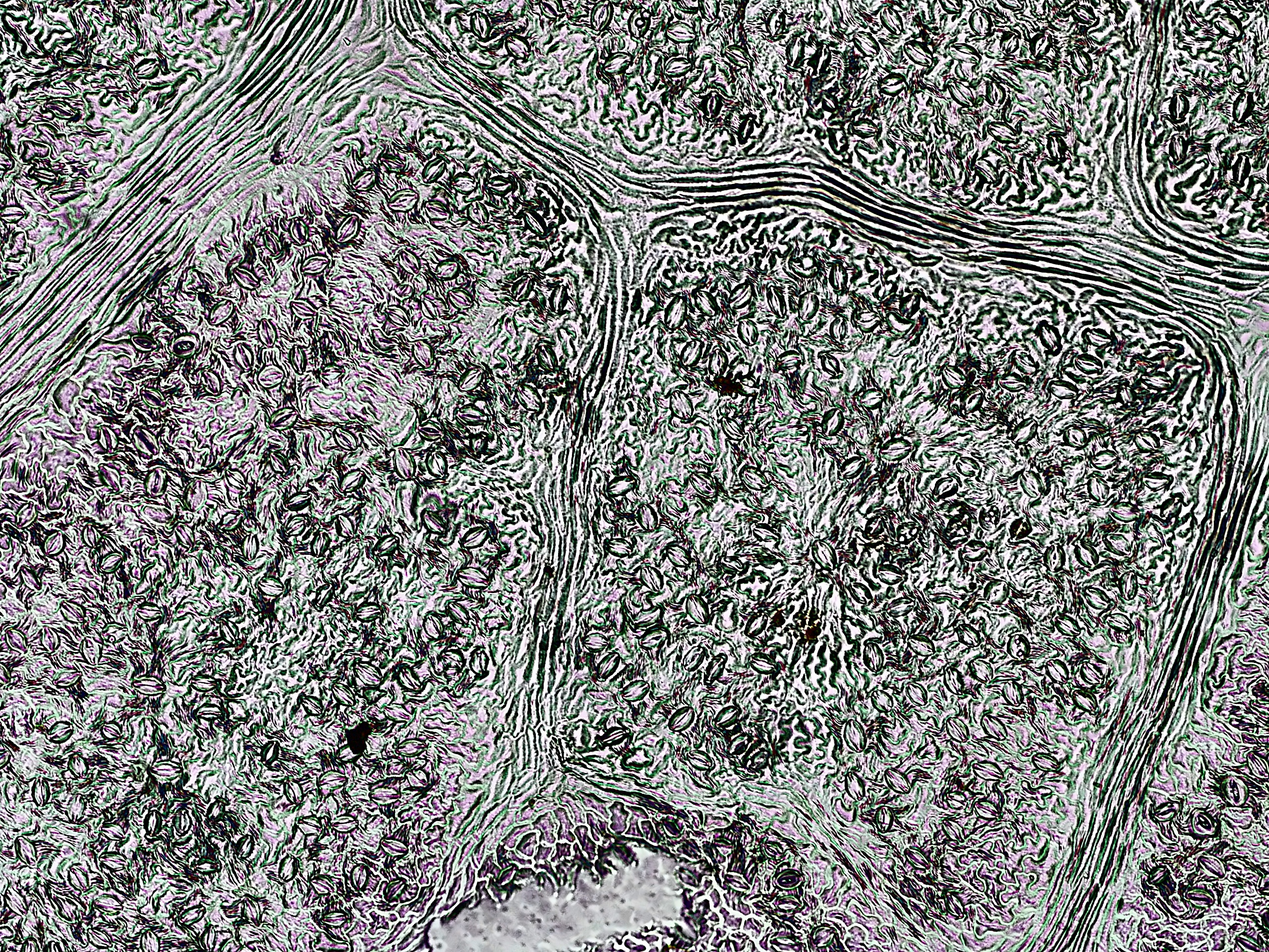stomata: (971, 158, 1000, 189), (392, 448, 417, 481), (515, 382, 543, 411), (334, 214, 361, 244), (45, 99, 78, 123), (168, 333, 201, 357), (812, 539, 836, 572), (843, 718, 867, 751), (686, 594, 711, 625), (879, 436, 911, 460), (182, 478, 205, 511), (948, 80, 975, 108), (905, 42, 935, 67), (664, 296, 686, 330), (1224, 775, 1248, 806), (512, 272, 535, 304), (590, 0, 613, 32), (980, 713, 1007, 740), (410, 338, 435, 367), (133, 425, 158, 454), (352, 663, 383, 686), (821, 407, 844, 438), (1040, 321, 1063, 352), (1042, 541, 1065, 572), (854, 31, 880, 58), (666, 707, 693, 733), (739, 464, 767, 489), (1193, 809, 1218, 837), (951, 41, 980, 65), (151, 761, 184, 782), (1109, 501, 1142, 522), (388, 188, 418, 211), (666, 21, 696, 44), (671, 389, 694, 419), (689, 472, 719, 495), (132, 675, 166, 695), (767, 285, 787, 319), (524, 209, 549, 236), (15, 500, 40, 527), (629, 7, 650, 39), (1073, 542, 1101, 566), (145, 468, 167, 498), (97, 461, 119, 491), (93, 894, 123, 916), (316, 770, 349, 790), (849, 118, 882, 138), (985, 80, 1007, 110), (988, 121, 1018, 143), (1168, 134, 1189, 165), (333, 427, 359, 452), (885, 768, 910, 794), (879, 73, 906, 97), (1080, 658, 1104, 685), (79, 637, 102, 665), (337, 470, 365, 493), (702, 91, 725, 119), (1215, 14, 1243, 37), (749, 651, 777, 674), (944, 665, 964, 697), (695, 289, 717, 318), (621, 680, 650, 702), (287, 344, 308, 374), (370, 536, 400, 557), (258, 575, 288, 596), (458, 567, 488, 588), (882, 5, 903, 35), (895, 520, 920, 545), (1006, 635, 1031, 660), (208, 300, 232, 326), (458, 368, 484, 392), (504, 35, 530, 59), (726, 283, 750, 309), (817, 351, 841, 377), (721, 415, 745, 441), (1010, 419, 1036, 443), (720, 554, 746, 578), (232, 265, 259, 288), (271, 408, 298, 431), (968, 9, 991, 36), (665, 545, 692, 568), (1052, 612, 1079, 635), (1084, 325, 1115, 345), (636, 628, 667, 648), (15, 836, 37, 864), (680, 338, 701, 367), (723, 870, 752, 891), (602, 54, 634, 73), (241, 894, 261, 924), (421, 509, 446, 533), (329, 683, 354, 707), (786, 36, 806, 66), (829, 261, 849, 291), (737, 318, 757, 348), (689, 747, 714, 771), (864, 644, 884, 674), (131, 330, 157, 353), (932, 476, 958, 499), (942, 820, 968, 843), (422, 156, 444, 183), (302, 254, 329, 276), (232, 344, 254, 371), (4, 888, 26, 915), (858, 387, 885, 409), (754, 521, 781, 543), (1021, 469, 1043, 496), (1234, 91, 1253, 122), (605, 476, 636, 495), (289, 298, 317, 319), (1048, 134, 1069, 162), (777, 868, 805, 889), (1196, 857, 1224, 878), (797, 291, 817, 320), (829, 314, 849, 343), (607, 536, 636, 556), (188, 673, 220, 691), (743, 612, 767, 636), (425, 452, 448, 477), (696, 0, 721, 23), (726, 44, 751, 67), (986, 578, 1009, 603), (1045, 658, 1070, 681), (434, 258, 460, 280), (449, 288, 475, 310), (383, 304, 409, 326), (141, 387, 167, 409), (641, 565, 663, 591), (1106, 533, 1132, 555), (946, 715, 968, 741), (457, 405, 487, 424), (220, 616, 239, 646), (1169, 92, 1188, 122), (973, 761, 1003, 780), (288, 216, 309, 243), (1050, 378, 1077, 399), (908, 682, 929, 709), (1248, 752, 1269, 779), (1142, 372, 1175, 389), (486, 175, 514, 195), (355, 602, 383, 622), (597, 651, 617, 679), (1088, 474, 1108, 502), (1145, 470, 1173, 490), (1033, 752, 1061, 772), (258, 367, 282, 390), (5, 629, 28, 653), (423, 614, 446, 638), (944, 363, 967, 387), (963, 537, 986, 561), (909, 635, 933, 658), (959, 623, 982, 647), (1073, 688, 1096, 712), (869, 690, 893, 713), (810, 924, 834, 947), (844, 772, 863, 801), (450, 171, 475, 193), (467, 199, 489, 224), (424, 198, 449, 220), (351, 170, 376, 192), (98, 552, 123, 574), (463, 526, 488, 548), (1135, 431, 1160, 453), (714, 706, 739, 728), (969, 657, 991, 682), (68, 752, 89, 778), (68, 865, 89, 891), (417, 419, 443, 440), (446, 602, 472, 623), (637, 505, 658, 531), (980, 504, 1001, 530), (400, 248, 420, 275), (65, 795, 85, 822), (877, 564, 904, 584), (886, 598, 913, 618), (873, 805, 893, 832), (256, 318, 275, 346), (1232, 155, 1251, 183), (87, 927, 111, 949), (839, 454, 863, 476), (849, 583, 873, 605), (419, 295, 440, 320), (44, 531, 65, 556), (102, 622, 127, 643), (48, 721, 73, 742), (1031, 32, 1052, 57), (794, 257, 819, 278), (600, 728, 629, 746), (1121, 571, 1139, 600), (134, 59, 160, 79), (20, 563, 40, 589), (31, 780, 51, 806), (470, 11, 490, 37), (962, 388, 982, 414), (1075, 353, 1101, 373), (100, 851, 127, 870), (709, 349, 728, 376), (1092, 450, 1119, 469), (581, 632, 608, 651), (1186, 888, 1213, 907), (395, 740, 427, 756), (1086, 587, 1109, 609), (550, 285, 568, 313), (41, 625, 59, 653), (284, 491, 312, 509), (399, 666, 420, 690), (60, 601, 85, 621), (137, 601, 162, 621), (538, 344, 558, 369), (311, 532, 331, 557), (1108, 612, 1133, 632), (98, 425, 117, 451), (178, 905, 204, 924), (279, 855, 298, 881), (383, 836, 409, 855), (634, 606, 660, 625), (369, 787, 398, 804), (203, 370, 221, 397), (144, 810, 162, 837), (384, 704, 411, 722), (706, 655, 724, 682), (682, 647, 703, 670), (905, 848, 928, 869), (262, 229, 282, 253), (336, 744, 360, 764), (778, 351, 802, 371), (855, 311, 880, 330), (174, 809, 192, 835), (737, 118, 755, 144), (1001, 373, 1027, 391), (1064, 426, 1086, 447), (301, 695, 324, 715), (1073, 50, 1093, 73), (1003, 681, 1023, 704), (284, 780, 303, 804), (898, 292, 917, 316), (1011, 517, 1030, 541), (1147, 866, 1171, 885), (0, 204, 25, 222), (101, 822, 126, 840), (284, 517, 309, 535), (197, 702, 222, 720), (350, 863, 368, 888), (666, 58, 691, 76), (975, 802, 1000, 820), (321, 911, 349, 927), (175, 525, 195, 547), (944, 894, 964, 916), (310, 874, 333, 893), (737, 377, 760, 396), (53, 670, 80, 686), (236, 833, 253, 858), (1154, 803, 1179, 820), (140, 931, 160, 952), (226, 468, 246, 489), (815, 45, 830, 73), (1000, 33, 1020, 54), (1075, 4, 1096, 24), (865, 515, 885, 536), (468, 431, 487, 453), (268, 450, 287, 472), (220, 511, 242, 530), (32, 168, 58, 184), (331, 815, 357, 831), (767, 9, 783, 35), (207, 799, 225, 822), (84, 525, 101, 549), (336, 514, 353, 538), (470, 650, 487, 674), (201, 925, 216, 952), (1156, 342, 1183, 357), (443, 649, 463, 669), (380, 152, 402, 170), (320, 365, 343, 382), (196, 858, 220, 874), (241, 535, 257, 559), (258, 742, 277, 762), (407, 769, 427, 788), (959, 456, 979, 475), (314, 584, 332, 605), (302, 813, 323, 831), (728, 735, 749, 753), (60, 51, 86, 65), (102, 721, 121, 740), (385, 879, 404, 898), (1019, 351, 1038, 370), (540, 0, 560, 18), (938, 0, 963, 14), (751, 751, 770, 769), (778, 893, 796, 912), (1119, 385, 1135, 406), (1255, 872, 1269, 896), (396, 282, 414, 300), (946, 792, 965, 809), (663, 819, 679, 839), (763, 841, 783, 857), (822, 90, 836, 110), (22, 937, 39, 952), (1236, 0, 1257, 12), (0, 741, 9, 768), (1000, 0, 1024, 10), (0, 663, 10, 686), (48, 941, 63, 952)
